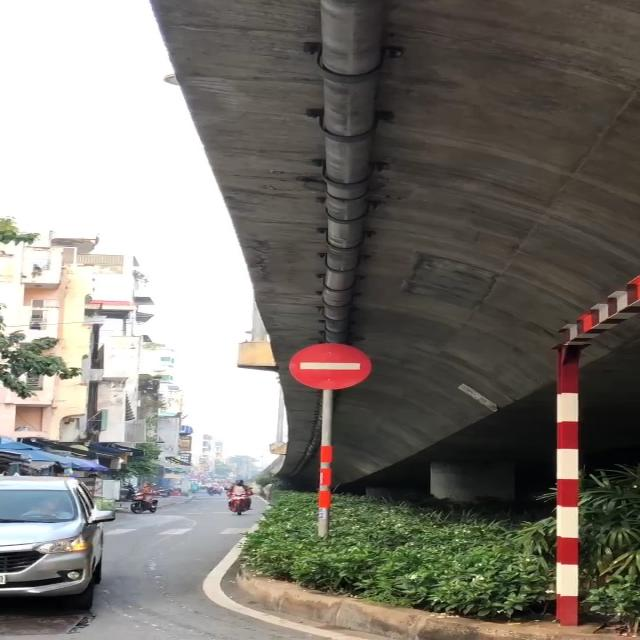Bien bao cam di nguoc chieu: (281, 340, 375, 390)
